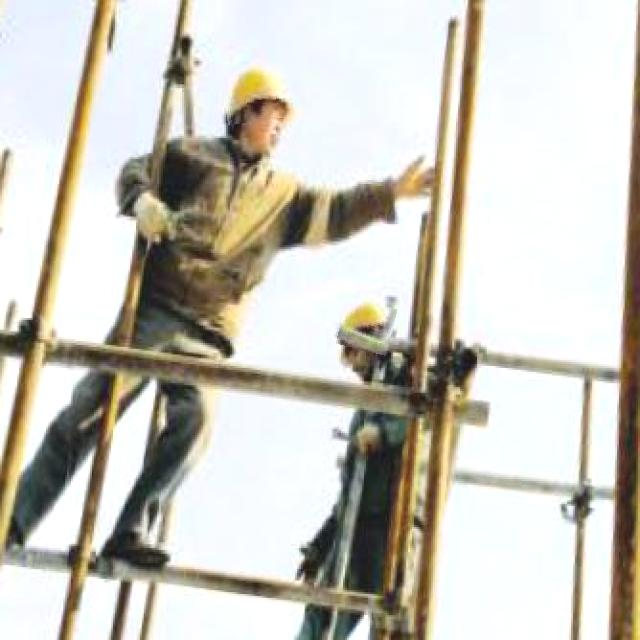helmet: (222, 63, 293, 123), (335, 300, 395, 354)
